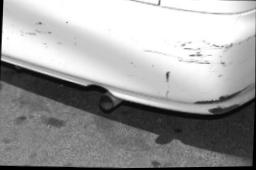Bumper: (6, 6, 251, 101)
